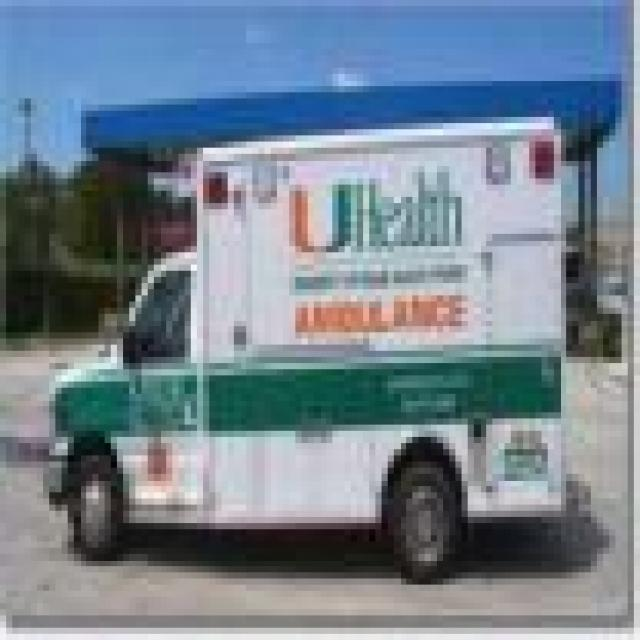emergency-vehicle: (40, 108, 582, 600)
